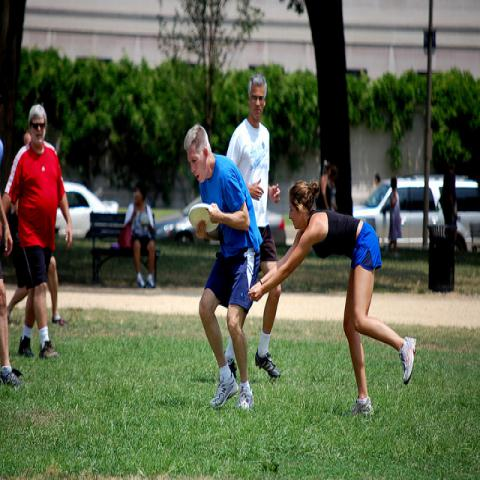car: (352, 174, 479, 262), (154, 194, 286, 247), (54, 181, 120, 242)
